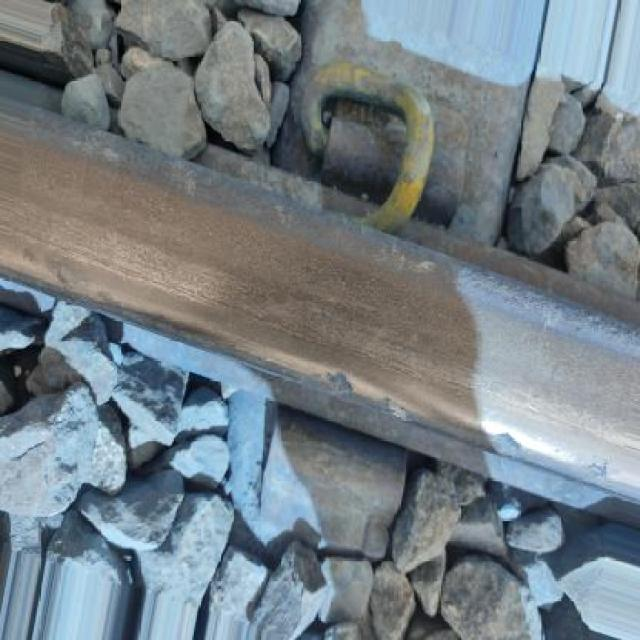defective: (0, 66, 633, 564)
